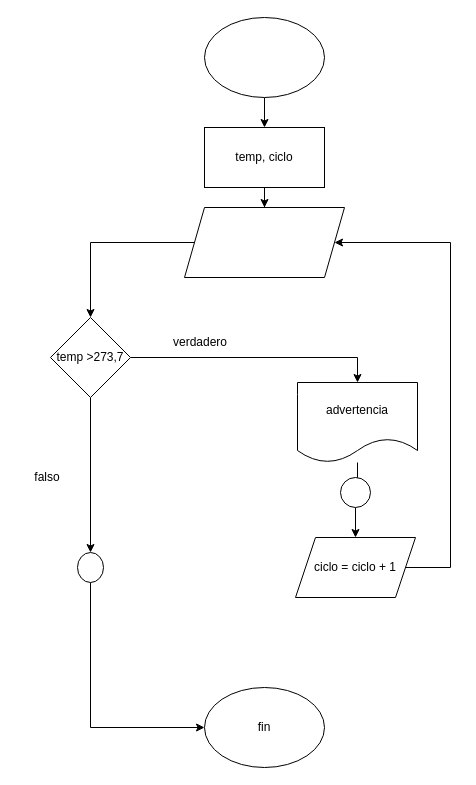
Image size: 476x785. Some labels were removed from this diagram. Here are the shapes that lost their labels. From the top down, the box of each, then its label:
(204, 16, 324, 98): inicio
(184, 206, 344, 278): temp = temp-ciclo*(-1)
